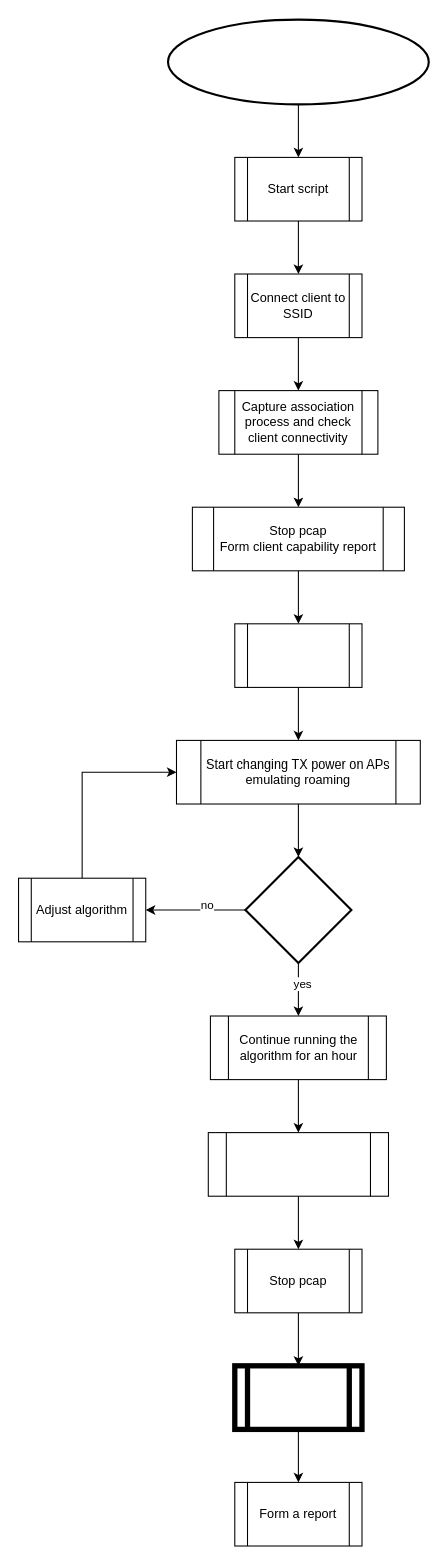
The diagram is 448 pixels wide and 1565 high, and some of its shapes have lost their labels. The shapes that lost their labels are listed below. From the top down, each one's centre as x and y in pixels, then its label:
At (x=297, y=61): "Topology provisioning (AP, server, assign IP address to a client)".
At (x=298, y=655): "Start a new pcap".
At (x=298, y=909): "Did roaming happen?".
At (x=297, y=1164): "Stop the algorithm".
At (x=298, y=1397): "Analyze pcap".
